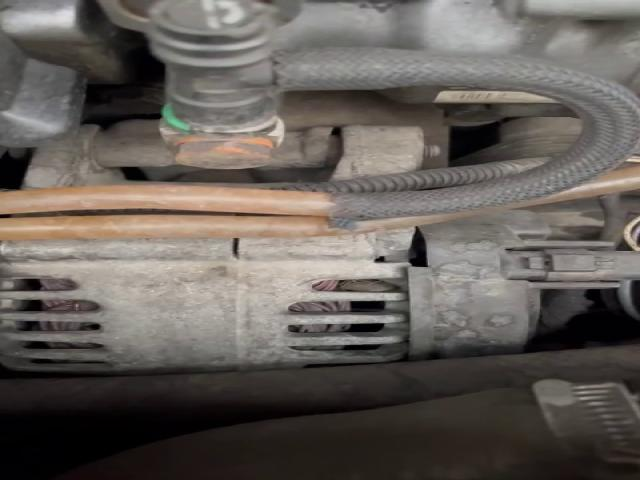alternator: (0, 230, 412, 373)
